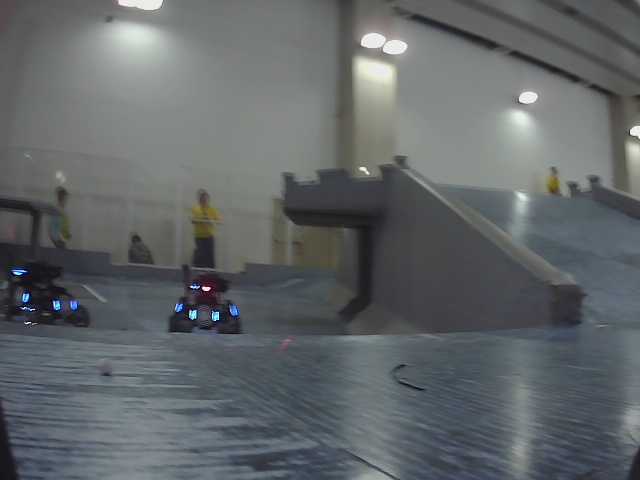lamp: (209, 308, 220, 323), (188, 309, 198, 324), (69, 300, 81, 311), (51, 299, 62, 310)
pair: (189, 309, 219, 323), (52, 300, 80, 310)
